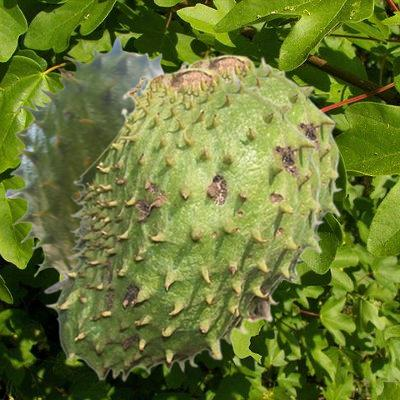guyabano: (43, 67, 323, 381), (5, 35, 165, 278), (178, 54, 341, 274)
